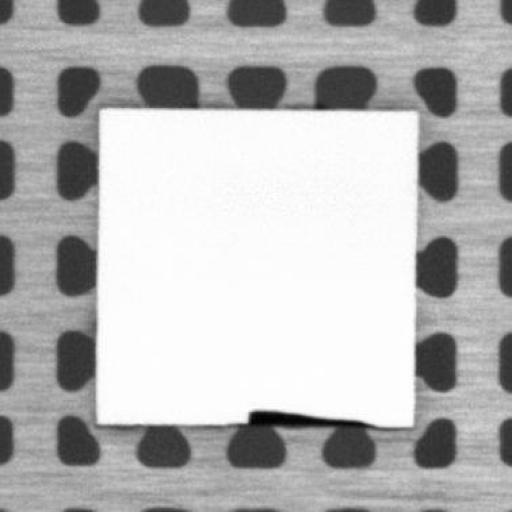DIE_BROKEN: (244, 405, 380, 430)
